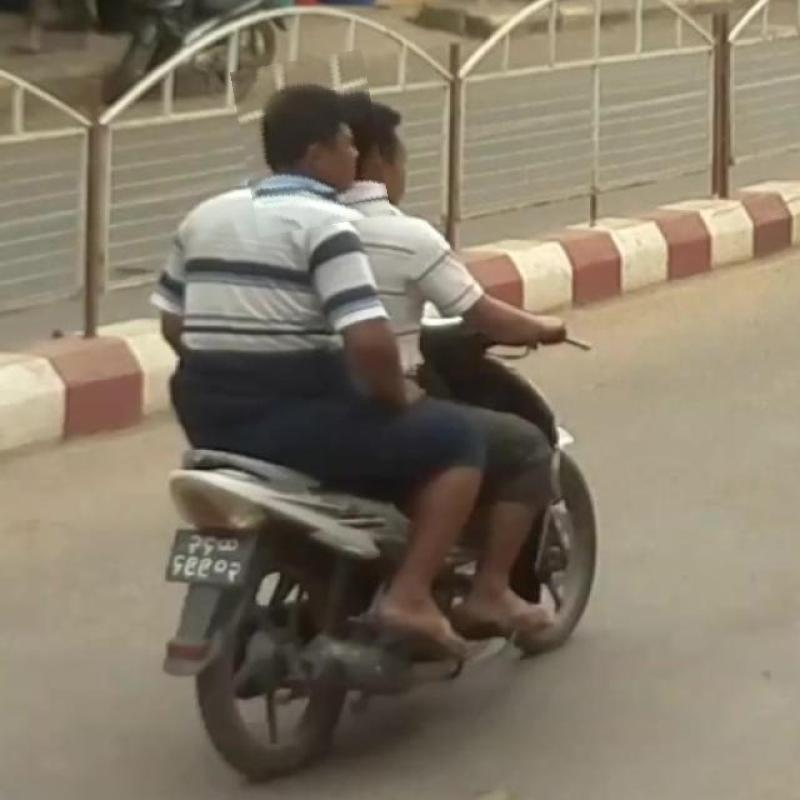nohelmet: (237, 54, 385, 232)
